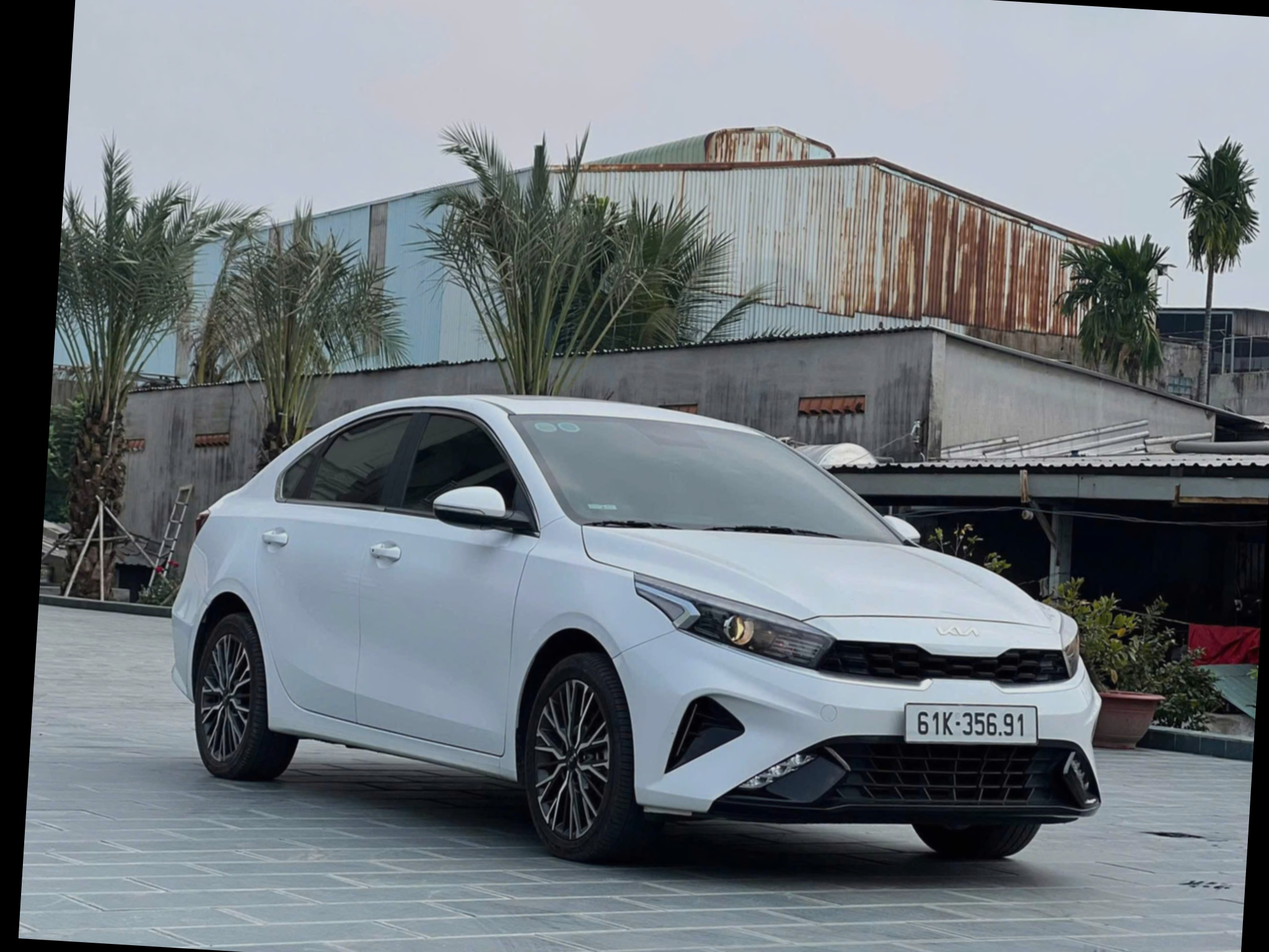Bien-so: (904, 699, 1046, 752)
